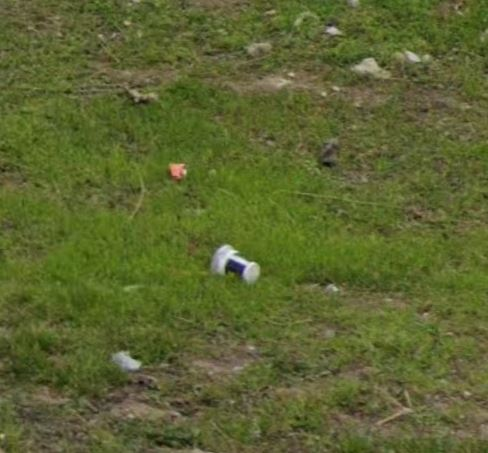trash: (204, 235, 264, 286), (163, 156, 195, 185)
